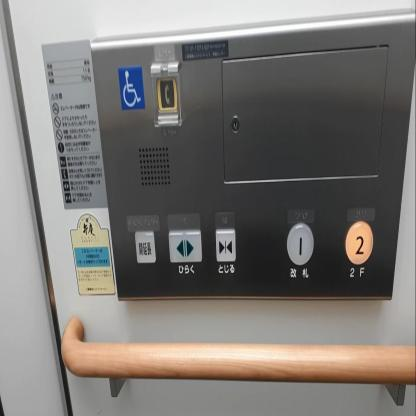1: (286, 220, 314, 265)
2: (343, 218, 374, 265)
CH: (117, 61, 146, 115)
call: (155, 74, 178, 114)
close: (214, 226, 236, 265)
keyhole: (229, 114, 241, 135)
open: (167, 227, 203, 265)
